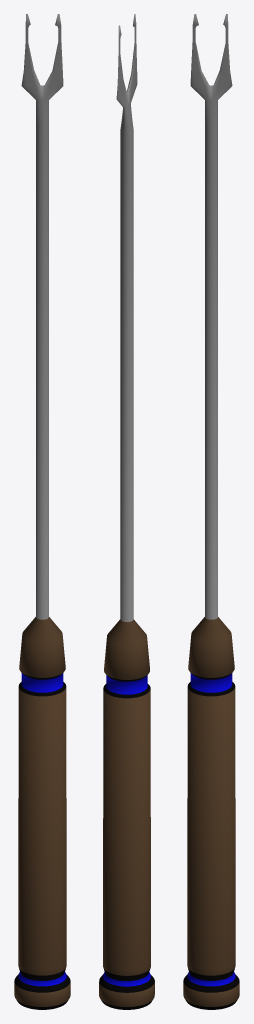
The model's file is OriginalFork.fbx.
3 views of the same model, side by side, from view 1: azimuth 90°, elevation 25°; view 2: azimuth 150°, elevation 25°; view 3: azimuth 270°, elevation 25° (orthographic).
Visible parts, largest first — view 1: Cylinder; view 2: Cylinder; view 3: Cylinder.
Part boxes in pixels (box(x1,y1,x2,y2)): Cylinder: box(14, 14, 70, 1009); Cylinder: box(99, 14, 154, 1009); Cylinder: box(183, 14, 239, 1009).
Size of the model in its own units: 101 by 1962 by 101.
